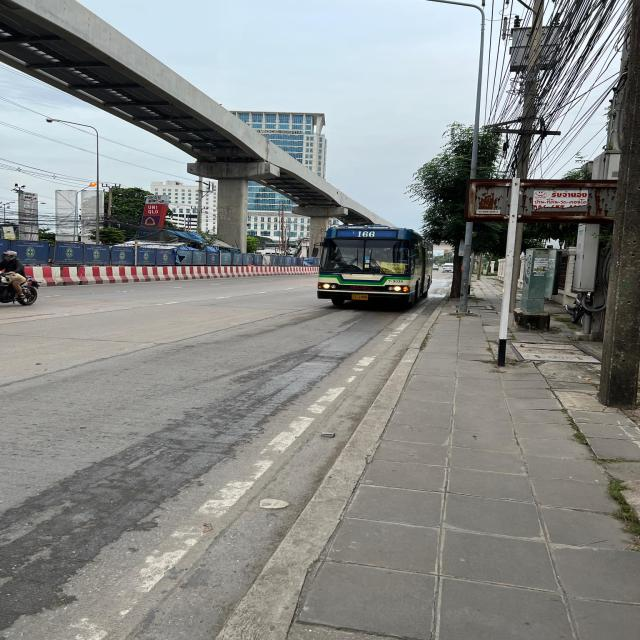BMTA-bus: (314, 222, 434, 308)
Bus-Line-Number: (354, 230, 379, 239)
Destination-Sign-Normal-Expressway: (380, 262, 406, 275)
